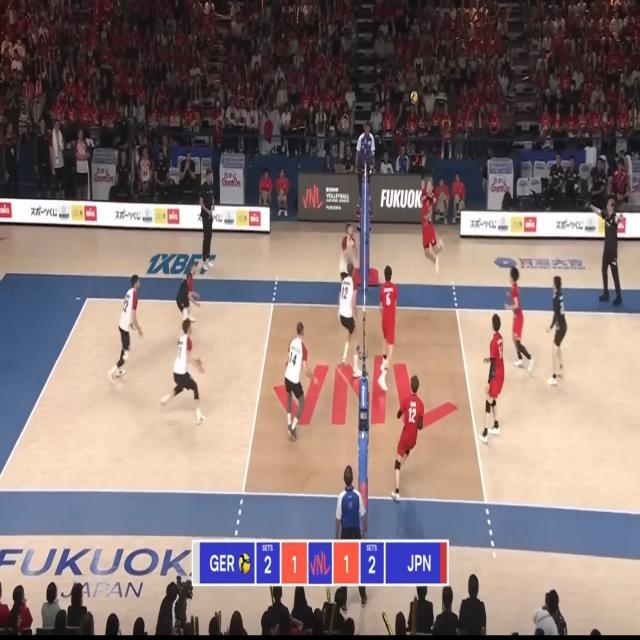ball: (410, 92, 418, 104)
